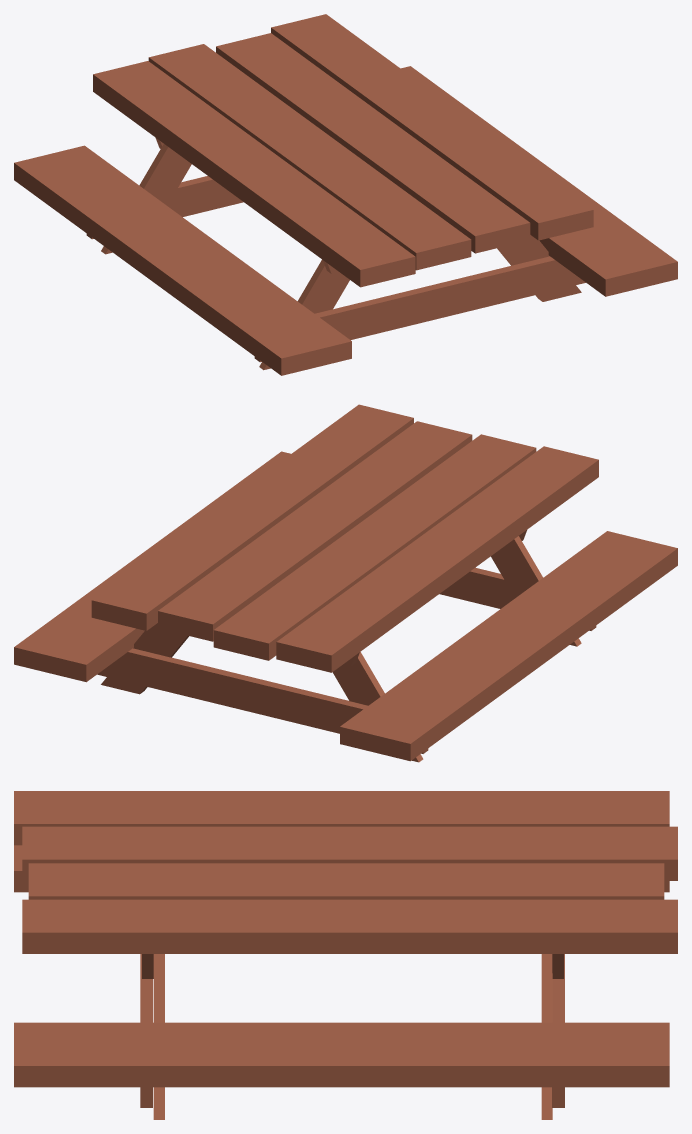
File: SM_Table.FBX
The picture shows the model from 3 angles, top to bottom: view 1: azimuth 30°, elevation 25°; view 2: azimuth 150°, elevation 25°; view 3: azimuth 270°, elevation 25°; orthographic projection. The views are drawn at different scales.
Visible parts, largest first — view 1: Table; view 2: Table; view 3: Table.
Boxes of the visible parts, x1,y1,x2,y2 form: Table: (14,14,677,375); Table: (14,404,677,762); Table: (14,791,677,1119).
Size of the model in its own units: 295 by 93.92 by 349.
1 material, 1 textured.
